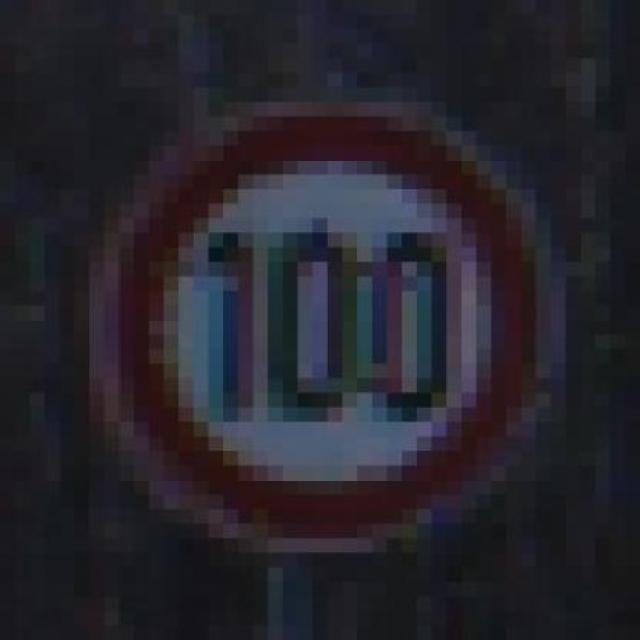forb_speed_over_100: (115, 122, 535, 536)
